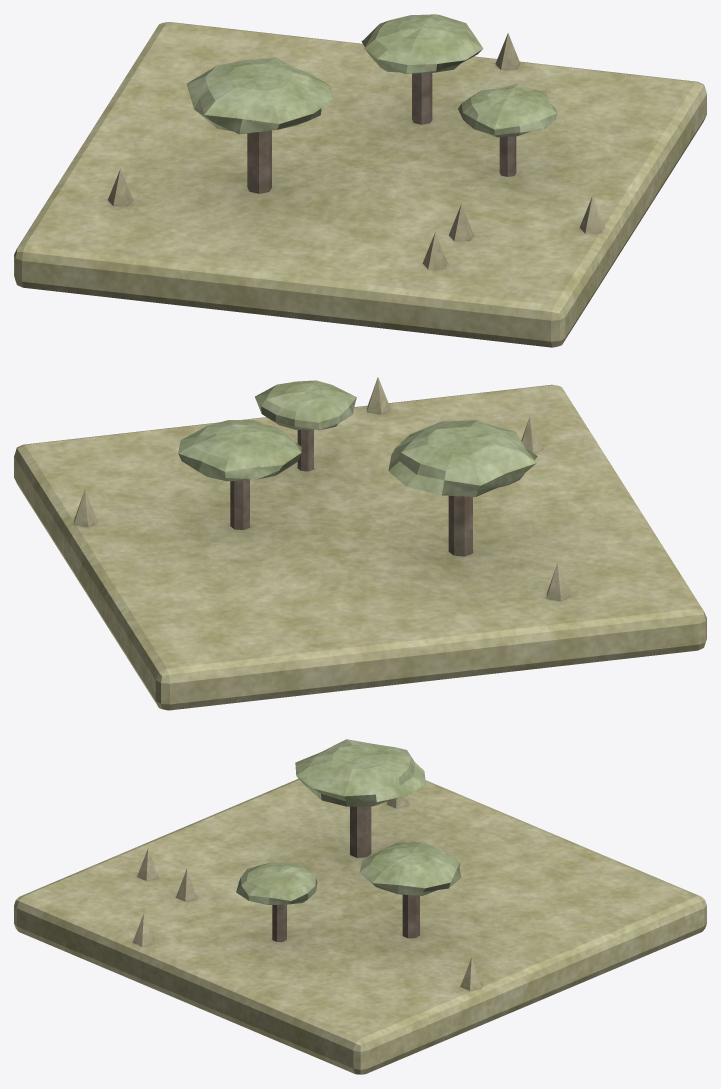
Rendered from sarn_forest.glb.
The picture shows the model from 3 angles, top to bottom: view 1: azimuth 30°, elevation 25°; view 2: azimuth 150°, elevation 25°; view 3: azimuth 270°, elevation 25°; orthographic projection. The views are drawn at different scales.
Parts seen in each view (by area): view 1: dilek; view 2: dilek; view 3: dilek.
Boxes of the visible parts, left/top/right/bottom form: dilek: left=14, top=14, right=706, bottom=347; dilek: left=14, top=377, right=706, bottom=710; dilek: left=14, top=739, right=706, bottom=1074.
Bounding box in the file's own units: 2.42 × 0.5161 × 2.42.
Materials: 1 (1 with a texture image).
